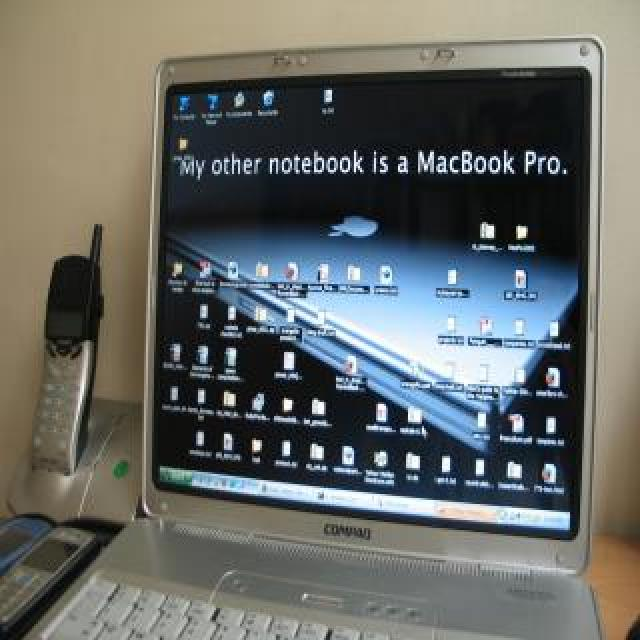laptop_computer: (106, 16, 608, 640)
